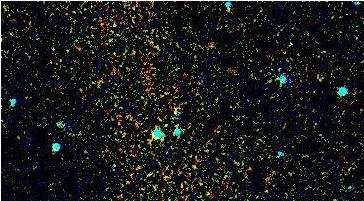star: (302, 59, 332, 89)
